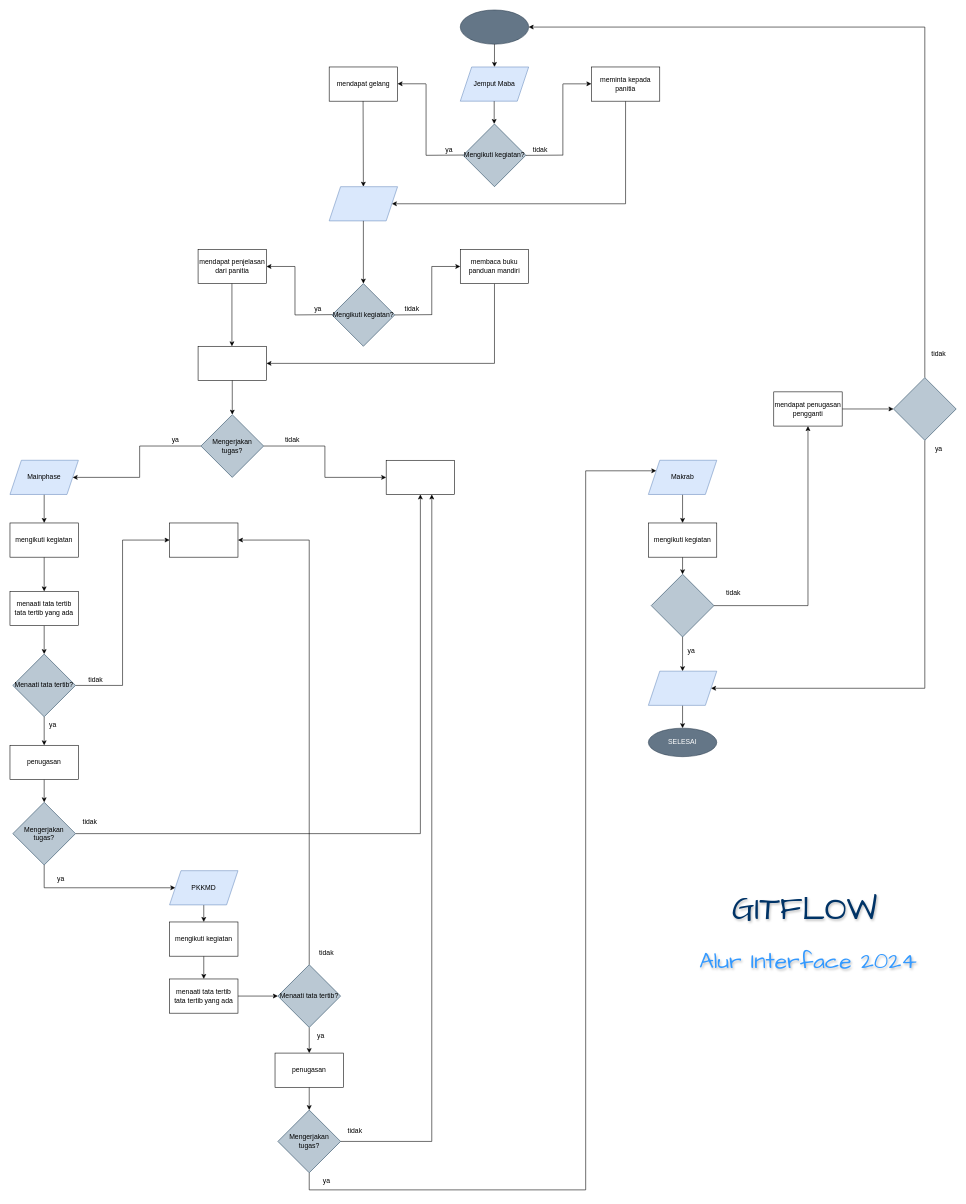
The diagram is 966 pixels wide and 1204 high, and some of its shapes have lost their labels. Each missing label, with the centre of its shape:
"Apakah mengerjakan tugas?" belongs at (x=924, y=408).
"Apakah mengikuti kegiatan?" belongs at (x=682, y=605).
"Demo" belongs at (x=363, y=203).
"dieberi sanksi sesuai pelanggaran yang dilakukan" belongs at (x=203, y=539).
"Lulus" belongs at (x=682, y=688).
"mendapat penugasan" belongs at (x=232, y=363).
"mendapat penugasan tambahan dari panitia" belongs at (x=420, y=477).
"START" belongs at (x=494, y=26).
